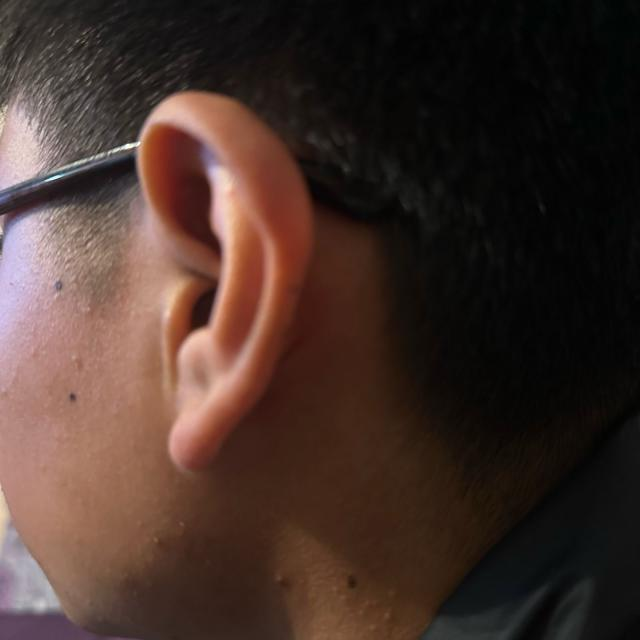ear: (138, 92, 314, 470)
